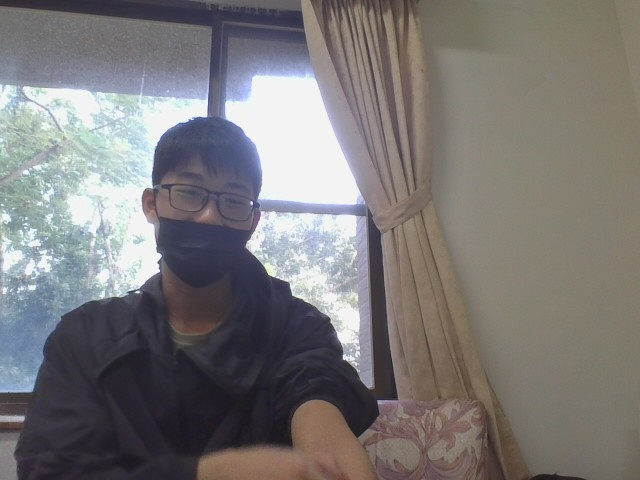No_Gloves: (185, 413, 399, 480)
No_Helmet: (140, 113, 264, 291)
person: (1, 99, 440, 479)
